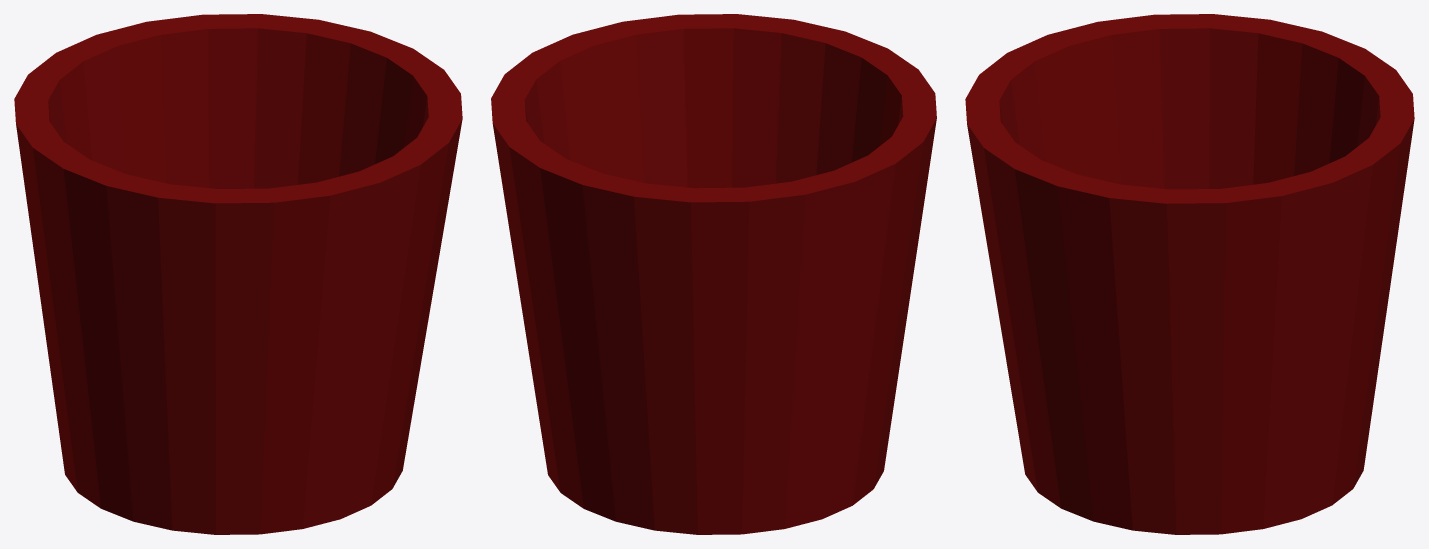
3 views of the same model, side by side, from view 1: azimuth 30°, elevation 25°; view 2: azimuth 150°, elevation 25°; view 3: azimuth 270°, elevation 25° (orthographic).
Visible parts, largest first — view 1: mesh1_mesh1-geometry; view 2: mesh1_mesh1-geometry; view 3: mesh1_mesh1-geometry.
Part boxes in pixels (<box>): mesh1_mesh1-geometry: <box>14,14,462,534</box>; mesh1_mesh1-geometry: <box>491,14,936,534</box>; mesh1_mesh1-geometry: <box>965,14,1414,534</box>.
Bounding box in the file's own units: 0.6015 × 0.5258 × 0.6015.
